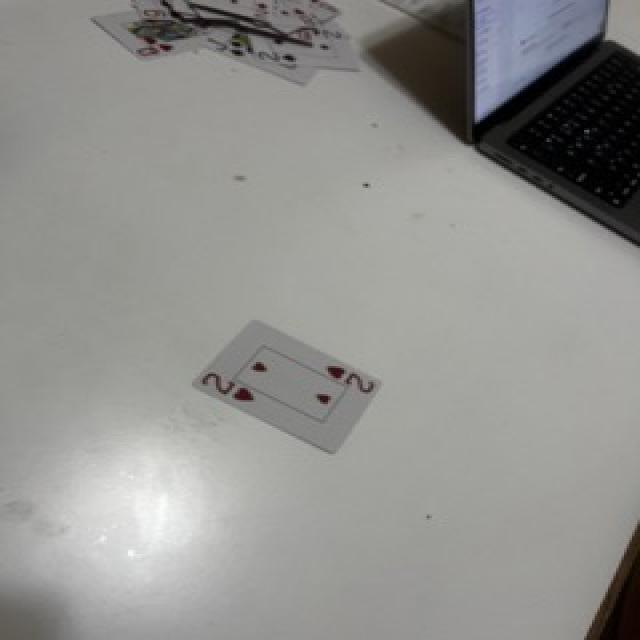2 of diamonds: (193, 321, 380, 452)
